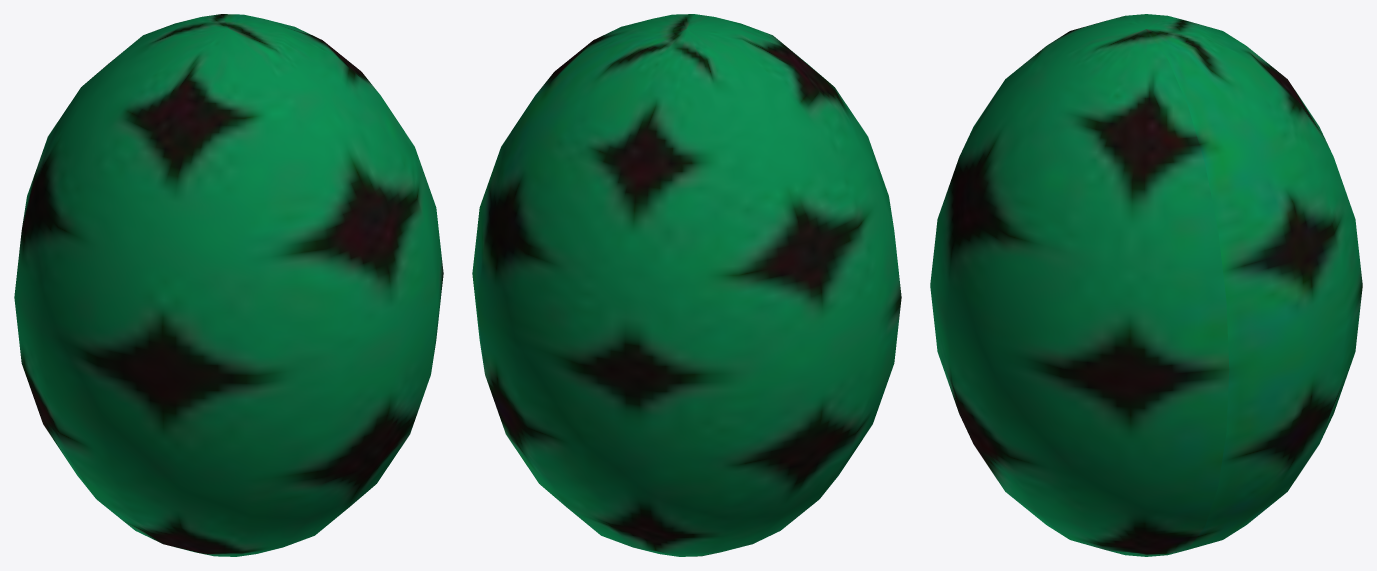
Rendered from egg_04.fbx.
The picture shows the model from 3 angles, left to right: view 1: azimuth 30°, elevation 25°; view 2: azimuth 150°, elevation 25°; view 3: azimuth 270°, elevation 25°; orthographic projection.
Parts seen in each view (by area): view 1: egg_04; view 2: egg_04; view 3: egg_04.
Boxes of the visible parts, x1=… form: egg_04: x1=14, y1=14, x2=443, y2=556; egg_04: x1=472, y1=14, x2=901, y2=556; egg_04: x1=930, y1=14, x2=1362, y2=556.
Size of the model in its own units: 9.95 by 13.02 by 9.95.
